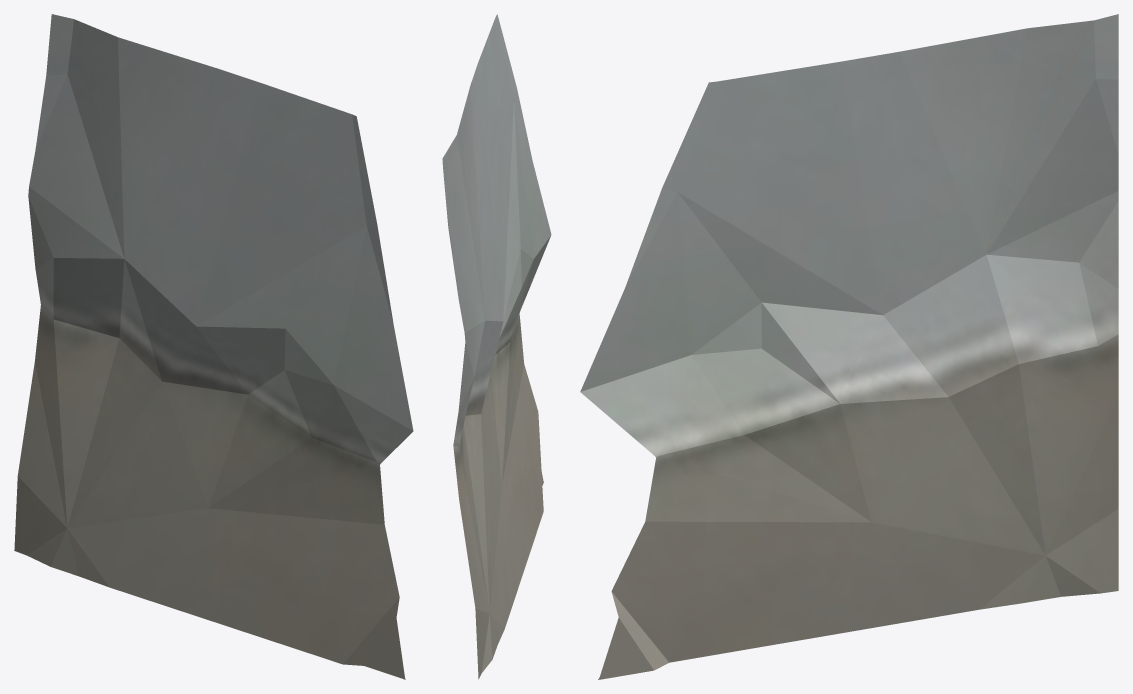
3 views of the same model, side by side, from view 1: azimuth 30°, elevation 25°; view 2: azimuth 150°, elevation 25°; view 3: azimuth 270°, elevation 25° (orthographic). The views are drawn at different scales.
Size of the model in its own units: 0.2676 by 0.8374 by 0.6841.
Materials: 2 (2 with a texture image).
